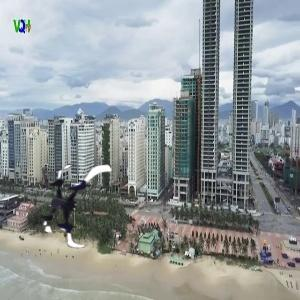drone: (29, 163, 118, 252)
